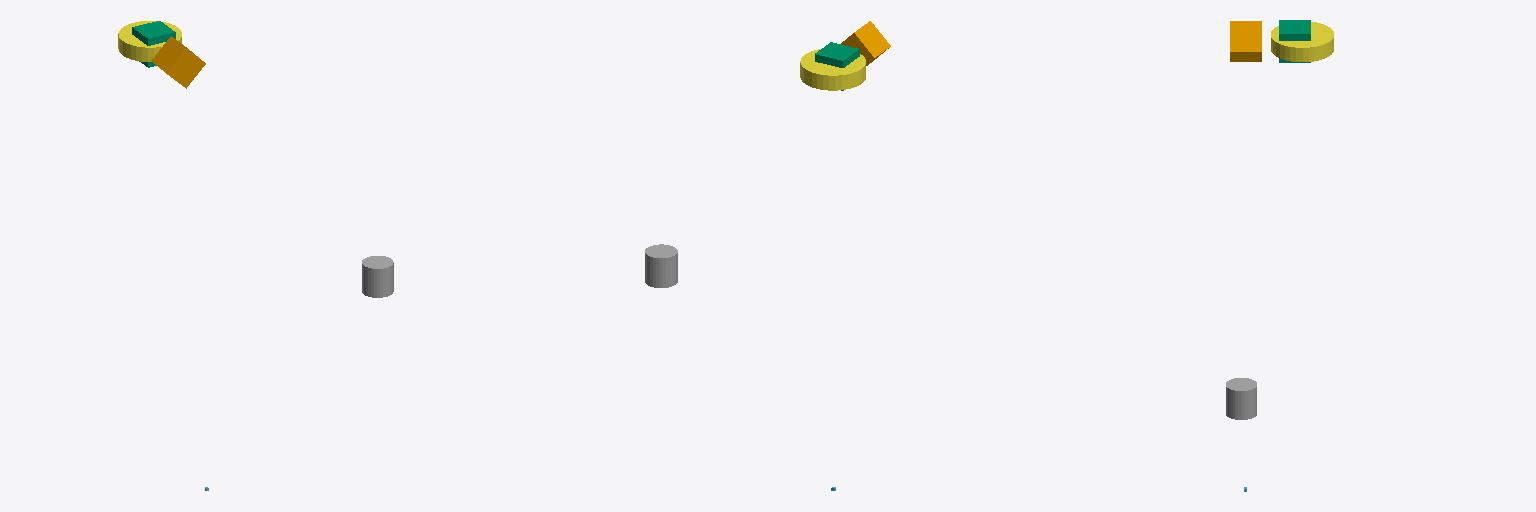
robot.urdf — Jaymii:
 <robot name="Jaymii" xmlns:xacro="http://www.ros.org/wiki/xacro">
  <link name="base_footprint" />
  <!-- base link must have geometry so its axis display in rviz-->
  <link name="base_link">
    <visual>
      <geometry>
        <box size="0.01 0.01 0.01"/>
      </geometry>
    </visual>
  </link>
  <gazebo reference="base_link">
    <material>Gazebo/Grey</material>
  </gazebo>

  <gazebo reference="body">
    <material>Gazebo/Grey</material>
    <mu1>0.2</mu1>
    <mu2>0.2</mu2>
  </gazebo>

  <link name="axle">
    <inertial>
      <origin xyz="0 0 0" />
      <mass value="1.0" />
      <inertia  ixx="0.0" ixy="0.0"  ixz="1.0"  iyy="-0.066042"  iyz="0.0"  izz="0.0" />
    </inertial>
    <visual>
      <geometry>
        <mesh filename="model://urdf/meshes/Axle.dae"/>
      </geometry>
    </visual>
    <collision>
      <geometry>
        <mesh filename="model://urdf/meshes/Axle.dae"/>
      </geometry>
    </collision>
  </link>

  <link name="left_wheel">
    <inertial>
      <origin xyz="0 0 0" />
      <mass value="1.0" />
      <inertia  ixx="0.994968" ixy="-0.100194"  ixz="0.0"  iyy="0.994968"  iyz="0.0"  izz="-1.0" />
    </inertial>
    <visual>
      <geometry>
        <mesh filename="model://urdf/meshes/Wheel.dae"/>
      </geometry>
    </visual>
    <collision>
      <geometry>
        <mesh filename="model://urdf/meshes/Wheel.dae"/>
      </geometry>
    </collision>
  </link>

  <gazebo reference="left_wheel">
    <material>Gazebo/Grey</material>
    <mu1>0.7</mu1>
    <mu2>0.75</mu2>
  </gazebo>

  <link name="right_wheel">
    <inertial>
      <origin xyz="0 0 0" />
      <mass value="1.0" />
      <inertia  ixx="0.994968" ixy="-0.100194"  ixz="0.0"  iyy="0.994968"  iyz="0.0"  izz="-1.0" />
    </inertial>
    <visual>
      <geometry>
        <mesh filename="model://urdf/meshes/Wheel.dae"/>
      </geometry>
    </visual>
    <collision>
      <geometry>
        <mesh filename="model://urdf/meshes/Wheel.dae"/>
      </geometry>
    </collision>
  </link>

  <gazebo reference="right_wheel">
    <material>Gazebo/Grey</material>
    <mu1>0.7</mu1>
    <mu2>0.75</mu2>
  </gazebo>

  <link name="front_ball">
    <inertial>
      <origin xyz="0 0 0" />
      <mass value="1.0" />
      <inertia  ixx="10.0" ixy="-0.0000004"  ixz="0.1"  iyy="0.0"  iyz="-0.0000004"  izz="0.0" />
    </inertial>
    <visual>
      <geometry>
        <mesh filename="model://urdf/meshes/Sphere.dae"/>
      </geometry>
    </visual>
    <collision>
      <geometry>
        <mesh filename="model://urdf/meshes/Sphere.dae"/>
      </geometry>
    </collision>
  </link>

  <link name="back_ball">
    <inertial>
      <origin xyz="0 0 0" />
      <mass value="1.0" />
      <inertia  ixx="0.0" ixy="-0.0000004"  ixz="0.1"  iyy="0.0"  iyz="-0.0000004"  izz="0.0" />
    </inertial>
    <visual>
      <geometry>
        <mesh filename="model://urdf/meshes/Sphere.dae"/>
      </geometry>
    </visual>
    <collision>
      <geometry>
        <mesh filename="model://urdf/meshes/Sphere.dae"/>
      </geometry>
    </collision>
  </link>

  <link name="lidar">
    <visual>
      <geometry>
        <cylinder radius="0.05" length="0.1"/>
      </geometry>
    </visual>
  </link>

  <gazebo reference="lidar">
    <sensor type="ray" name="lidar">
      <visualize>true</visualize>
      <update_rate>10</update_rate>
      <ray>
        <!-- Use gaussian noise -->
        <!--
        <noise>
        <type>gaussian</type>
        <mean>0.0</mean>
        <stddev>0.02</stddev>
      </noise>
      -->
        <scan>
          <horizontal>
            <samples>100</samples>
            <resolution>3.6</resolution>
            <min_angle>-3.14159265359</min_angle>
            <max_angle>3.14159265359</max_angle>
          </horizontal>
        </scan>
        <range>
          <min>0.05</min>
          <max>30</max>
          <resolution>0.02</resolution>
        </range>
      </ray>
      <plugin name="lidar_plugin" filename="libgazebo_ros_laser.so">
        <topicName>/scan</topicName>
        <frameName>/lidar</frameName>
      </plugin>
    </sensor>
  </gazebo>

  <link name="usb_cam_center">
    <visual>
      <geometry>
        <box size="0.1 0.1 0.1"/>
      </geometry>
    </visual>
  </link>

  <link name="optical_cam_center"/>

  <gazebo reference="usb_cam_center">
    <sensor name="center_camera" type="camera">
        <camera>
          <horizontal_fov>1.2290609</horizontal_fov>
          <image>
            <width>1920</width>
            <height>1080</height>
          </image>
          <clip>
            <near>0.1</near>
            <far>100</far>
          </clip>
          <!--
          <distortion>
            <k1>-0.25</k1>
            <k2>0.12</k2>
            <k3>0.0</k3>
            <p1>-0.00028</p1>
            <p2>-0.00005</p2>
            <center>0.5 0.5</center>
          </distortion>
          -->
        </camera>
        <always_on>1</always_on>
        <update_rate>30</update_rate>
        <plugin name="camera_controller" filename="libgazebo_ros_camera.so">
          <alwaysOn>true</alwaysOn>
          <updateRate>30.0</updateRate>
          <cameraName>usb_cam_center</cameraName>
          <imageTopicName>image_raw</imageTopicName>
          <cameraInfoTopicName>camera_info</cameraInfoTopicName>
          <frameName>optical_cam_center</frameName>
          <hackBaseline>0.0</hackBaseline>
          <distortionK1>0.0</distortionK1>
          <distortionK2>0.0</distortionK2>
          <distortionK3>0.0</distortionK3>
          <distortionT1>0.0</distortionT1>
          <distortionT2>0.0</distortionT2>
        </plugin>
      </sensor>
  </gazebo>

  <link name="imu">
    <visual>
      <geometry>
        <box size="0.1 0.1 0.1"/>
      </geometry>
    </visual>
  </link>

  <link name="gps">
    <visual>
      <geometry>
        <cylinder length="0.05" radius="0.1"/>
      </geometry>
    </visual>
  </link>

  <gazebo>
    <plugin name="gazebo_ros_control" filename="libgazebo_ros_control.so">
      <robotSimType>gazebo_ros_control/DefaultRobotHWSim</robotSimType>
    </plugin>
    <plugin filename="libhector_gazebo_ros_imu.so" name="imu">
      <serviceName>/imu/calibrate</serviceName>
      <updateRate>200.0</updateRate>
      <bodyName>imu</bodyName>
      <frameId>imu</frameId>
      <topicName>/imu</topicName>
      <rpyOffset>0 0 0</rpyOffset>
      <xyzOffset>0 0 0</xyzOffset>
      <gaussianNoise>0.00000001</gaussianNoise>
      <accelDrift>0.00000001 0.00000001 0.00000001</accelDrift>
      <accelDriftFrequency>0.00000001 0.00000001 0.00000001</accelDriftFrequency>
      <accelGaussianNoise>0.00000001 0.00000001 0.00000001</accelGaussianNoise>
      <rateDrift>0.0 0.0 0.0</rateDrift>
      <rateDriftFrequency>0.0 0.0 0.0</rateDriftFrequency>
      <rateGaussianNoise>0.0 0.0 0.0</rateGaussianNoise>
      <headingDrift>0.0 0.0 0.0</headingDrift>
      <headingDriftFrequency>0.0 0.0 0.0</headingDriftFrequency>
      <headingGaussianNoise>0.0 0.0 0.0</headingGaussianNoise>
      <yawOffset>1.5707963</yawOffset>
    </plugin>

    <plugin filename="libhector_gazebo_ros_gps.so" name="gps">
      <updateRate>20.0</updateRate>
      <bodyName>base_link</bodyName>
      <frameId>base_link</frameId>
      <topicName>/fix</topicName>
      <velocityTopicName>/fix_velocity</velocityTopicName>
      <referenceLatitude>33.774497</referenceLatitude>
      <referenceLongitude>-84.405001</referenceLongitude>
      <referenceAltitude>309.0</referenceAltitude>
      <drift>0.001 0.001 0.001</drift>
      <gaussianNoise>0.0001 0.0001 0.0001</gaussianNoise>
      <velocityDrift>0 0 0</velocityDrift>
      <velocityGaussianNoise>0.005 0.005 0.05</velocityGaussianNoise>
    </plugin>
  </gazebo>

  <transmission name="trans_left_wheel">
    <type>transmission_interface/SimpleTransmission</type>
    <joint name="axle_to_left_wheel">
      <hardwareInterface>hardware_interface/EffortJointInterface</hardwareInterface>
    </joint>
    <actuator name="motor1">
      <hardwareInterface>hardware_interface/EffortJointInterface</hardwareInterface>
      <mechanicalReduction>1</mechanicalReduction>
    </actuator>
  </transmission>

  <transmission name="trans_right_wheel">
    <type>transmission_interface/SimpleTransmission</type>
    <joint name="axle_to_right_wheel">
      <hardwareInterface>hardware_interface/EffortJointInterface</hardwareInterface>
    </joint>
    <actuator name="motor1">
      <hardwareInterface>hardware_interface/EffortJointInterface</hardwareInterface>
      <mechanicalReduction>1</mechanicalReduction>
    </actuator>
  </transmission>

  <joint name="base_footprint_to_base_link" type="fixed">
    <parent link="base_footprint"/>
    <child link="base_link"/>
    <origin xyz="0 0 0" rpy="0 0 0"/>
    <axis xyz="0 0 0"/>
  </joint>

  <joint name="base_footprint_to_imu" type="fixed">
    <parent link="base_footprint"/>
    <child link="imu"/>
    <origin xyz="-0.102 0.155 1.499" rpy="0 0 0"/>
    <axis xyz="0 0 0"/>
  </joint>

  <joint name="imu_to_axle" type="fixed">
    <parent link="imu"/>
    <child link="axle"/>
    <origin xyz="-.287 -0.003 -.475" rpy="1.5708 0 0"/>
    <axis xyz="0 0 0"/>
  </joint>

  <joint name="base_footprint_to_lidar" type="fixed">
    <origin xyz=".610 -.013 .597" rpy="0 0 0" />
    <parent link="base_footprint"/>
    <child link="lidar"/>
  </joint>
  <joint name="base_footprint_to_center_camera" type="fixed">
    <origin xyz="-.102 0 1.499" rpy="0 .8 0" />
    <parent link="base_footprint"/>
    <child link="usb_cam_center"/>
  </joint>

  <joint name="axle_to_left_wheel" type="continuous">
    <origin xyz="0 0 -.39" rpy="0 0 0" />
    <parent link="axle"/>
    <axis xyz="0 0 -1" rpy="0 0 0"/>
    <child link="left_wheel"/>
  </joint>

  <joint name="axle_to_right_wheel" type="continuous">
    <origin xyz="0 0 .39" rpy="0 0 0" /> <!-- -1.5708 -->
    <parent link="axle"/>
     <axis xyz="0 0 -1" rpy="0 0 0"/>
    <child link="right_wheel"/>
  </joint>

  <joint name="base_footprint_to_gps" type="fixed">
    <origin xyz="-.102 .178 1.499" rpy="0 0 0" /> <!-- -1.5708 -->
    <parent link="base_footprint"/>
    <child link="gps"/>
  </joint>

  <!--
  <joint name="imu_to_body" type="fixed">
    <origin xyz="-.5 -.5 0" rpy="0 0 0" /> -1.5708
    <parent link="imu"/>
    <child link="body"/>
  </joint>
-->
  <!--must have a joint so it is not assumed to be the base link but the ball joint not in URDF must add it in gazebo tag-->
  <joint name="imu_to_front_ball" type="floating">
    <parent link="imu"/>
    <child link="front_ball"/>
    <origin xyz=".39 0.0 -.53" rpy="0 0 0" />
  </joint>

  <joint name="imu_to_back_ball" type="floating">
    <parent link="imu"/>
    <child link="back_ball"/>
    <origin xyz="-.85 0.0 -.53" rpy="0 0 0" />
  </joint>

  <joint name="optical_cam_center_joint" type="fixed">
    <parent link="usb_cam_center"/>
    <child link="optical_cam_center"/>
    <origin xyz="0 0 0" rpy="-1.5708 0 -1.5708"/>
  </joint>

  <gazebo>
    <joint name='imu_to_back_ball' type='ball'>
      <parent>imu</parent>
      <child>back_ball</child>
      <pose frame=''>0 0 0 0 0 0</pose>
      <physics>
        <ode>
          <limit>
            <cfm>0</cfm>
            <erp>0.2</erp>
          </limit>
          <suspension>
            <cfm>0</cfm>
            <erp>0.2</erp>
          </suspension>
        </ode>
      </physics>
    </joint>
    <joint name='imu_to_front_ball' type='ball'>
      <parent>imu</parent>
      <child>front_ball</child>
      <pose frame=''>0 0 0 0 0 0</pose>
      <physics>
        <ode>
          <limit>
            <cfm>0</cfm>
            <erp>0.2</erp>
          </limit>
          <suspension>
            <cfm>0</cfm>
            <erp>0.2</erp>
          </suspension>
        </ode>
      </physics>
    </joint>
  </gazebo>
</robot>

--- Render facts (derived) ---
The picture shows the robot from 3 angles, left to right: view 1: azimuth 30°, elevation 25°; view 2: azimuth 150°, elevation 25°; view 3: azimuth 270°, elevation 25°; orthographic projection.
Model Jaymii with 12 links and 11 joints (2 continuous, 7 fixed, 2 floating), rooted at base_footprint, posed every joint at zero.
Links seen in each view (by area): view 1: usb_cam_center, lidar, gps, imu; view 2: gps, lidar, usb_cam_center, imu; view 3: gps, usb_cam_center, lidar, imu.
Link boxes in pixels (x1,y1,x2,y2): usb_cam_center: [151, 36, 205, 88]; lidar: [362, 256, 393, 297]; gps: [118, 21, 181, 61]; imu: [132, 21, 175, 67]; gps: [800, 49, 865, 90]; lidar: [645, 244, 677, 287]; usb_cam_center: [841, 21, 890, 65]; imu: [815, 42, 859, 90]; gps: [1271, 22, 1333, 61]; usb_cam_center: [1230, 21, 1261, 61]; lidar: [1226, 378, 1256, 419]; imu: [1279, 20, 1310, 62].
Size in the robot's own frame: 0.862 by 0.341 by 1.57 metres.
Meshes: 3 distinct files referenced, 0 mesh visuals loaded (none loaded); not drawn: 5 (file found but could not be loaded).
